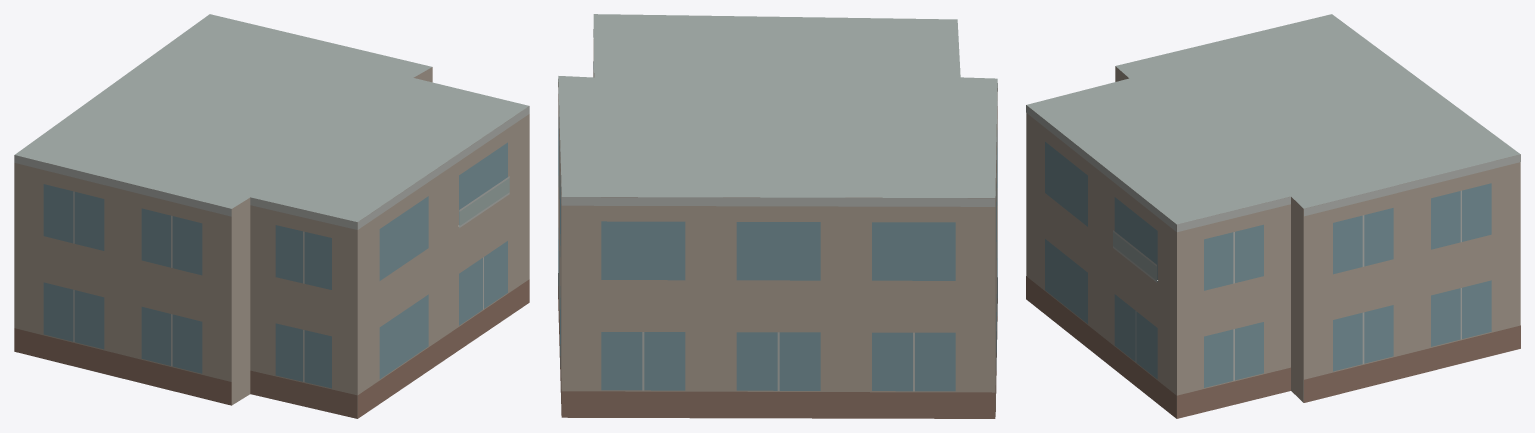
File: survey-upis-32703272.glb
The picture shows the model from 3 angles, left to right: view 1: azimuth 30°, elevation 25°; view 2: azimuth 150°, elevation 25°; view 3: azimuth 270°, elevation 25°; orthographic projection. The views are drawn at different scales.
Visible parts, largest first — view 1: survey-upis-32703272.tmp; view 2: survey-upis-32703272.tmp; view 3: survey-upis-32703272.tmp.
Boxes of the visible parts, <box> form: survey-upis-32703272.tmp: <box>14,14,529,418</box>; survey-upis-32703272.tmp: <box>558,14,997,418</box>; survey-upis-32703272.tmp: <box>1026,14,1520,418</box>.
Size of the model in its own units: 14.18 by 6.1 by 14.08.
